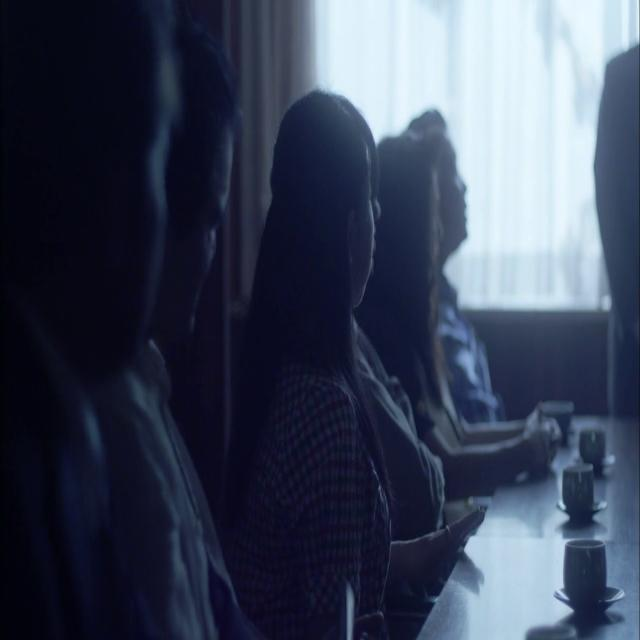Cup: (544, 534, 626, 633), (553, 454, 599, 536), (576, 388, 614, 477), (542, 373, 576, 430)
People: (0, 11, 161, 640), (152, 36, 254, 640), (285, 64, 398, 608), (340, 74, 430, 405), (427, 106, 494, 453), (391, 112, 463, 428), (595, 35, 640, 421)
Table: (411, 399, 640, 640)
